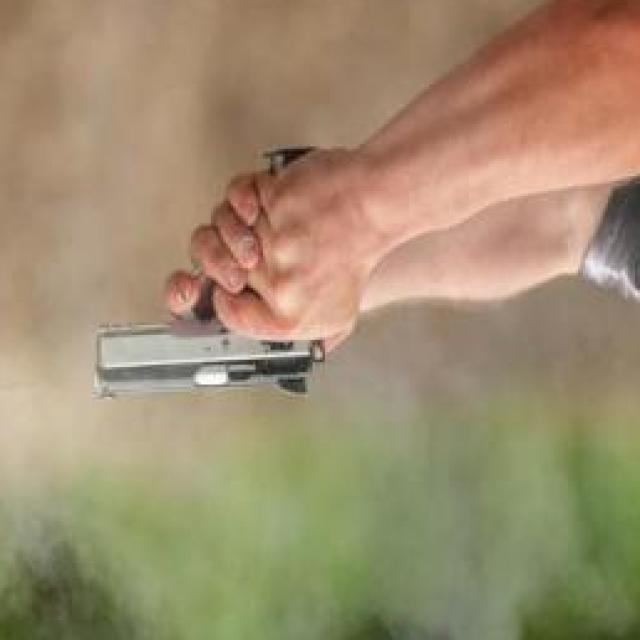pistol: (86, 149, 325, 407)
